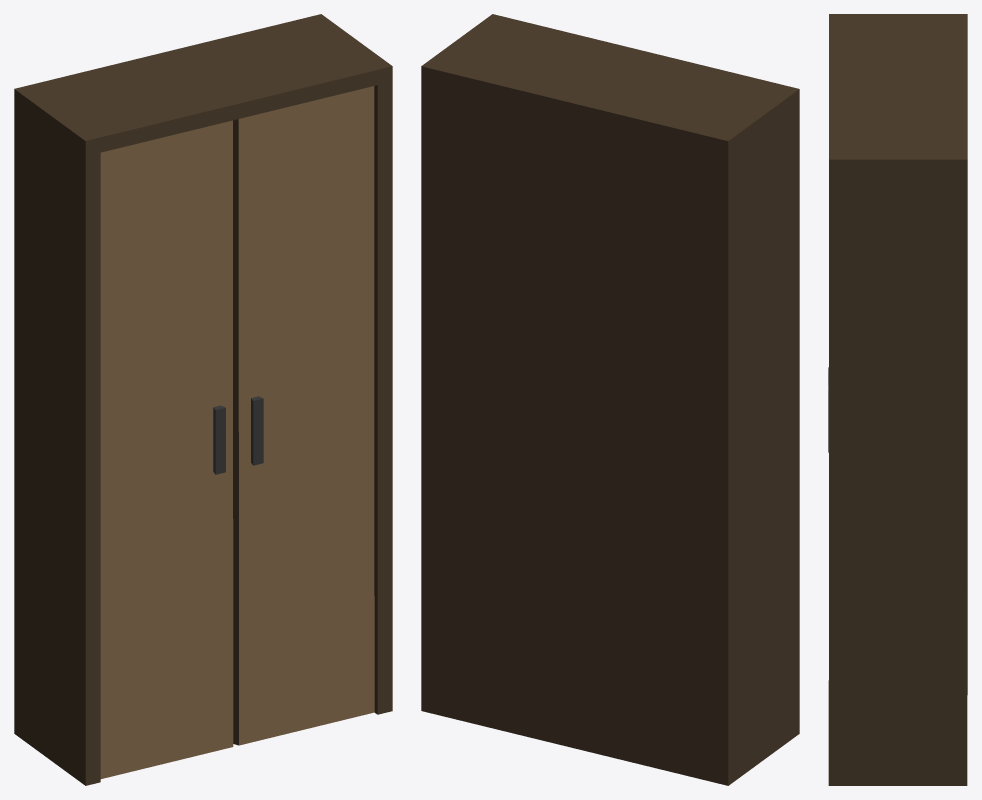
Rendered from FactoryWoodCloset.glb.
The picture shows the model from 3 angles, left to right: view 1: azimuth 30°, elevation 25°; view 2: azimuth 150°, elevation 25°; view 3: azimuth 270°, elevation 25°; orthographic projection. The views are drawn at different scales.
Parts seen in each view (by area): view 1: factoryWoodShelves; view 2: factoryWoodShelves; view 3: factoryWoodShelves.
Part boxes in pixels (bbox=[...]): factoryWoodShelves: bbox=[14, 14, 392, 785]; factoryWoodShelves: bbox=[421, 14, 799, 785]; factoryWoodShelves: bbox=[828, 14, 967, 785].
Size of the model in its own units: 1.2 by 2.41 by 0.486.
Materials: 1 (1 with a texture image).
